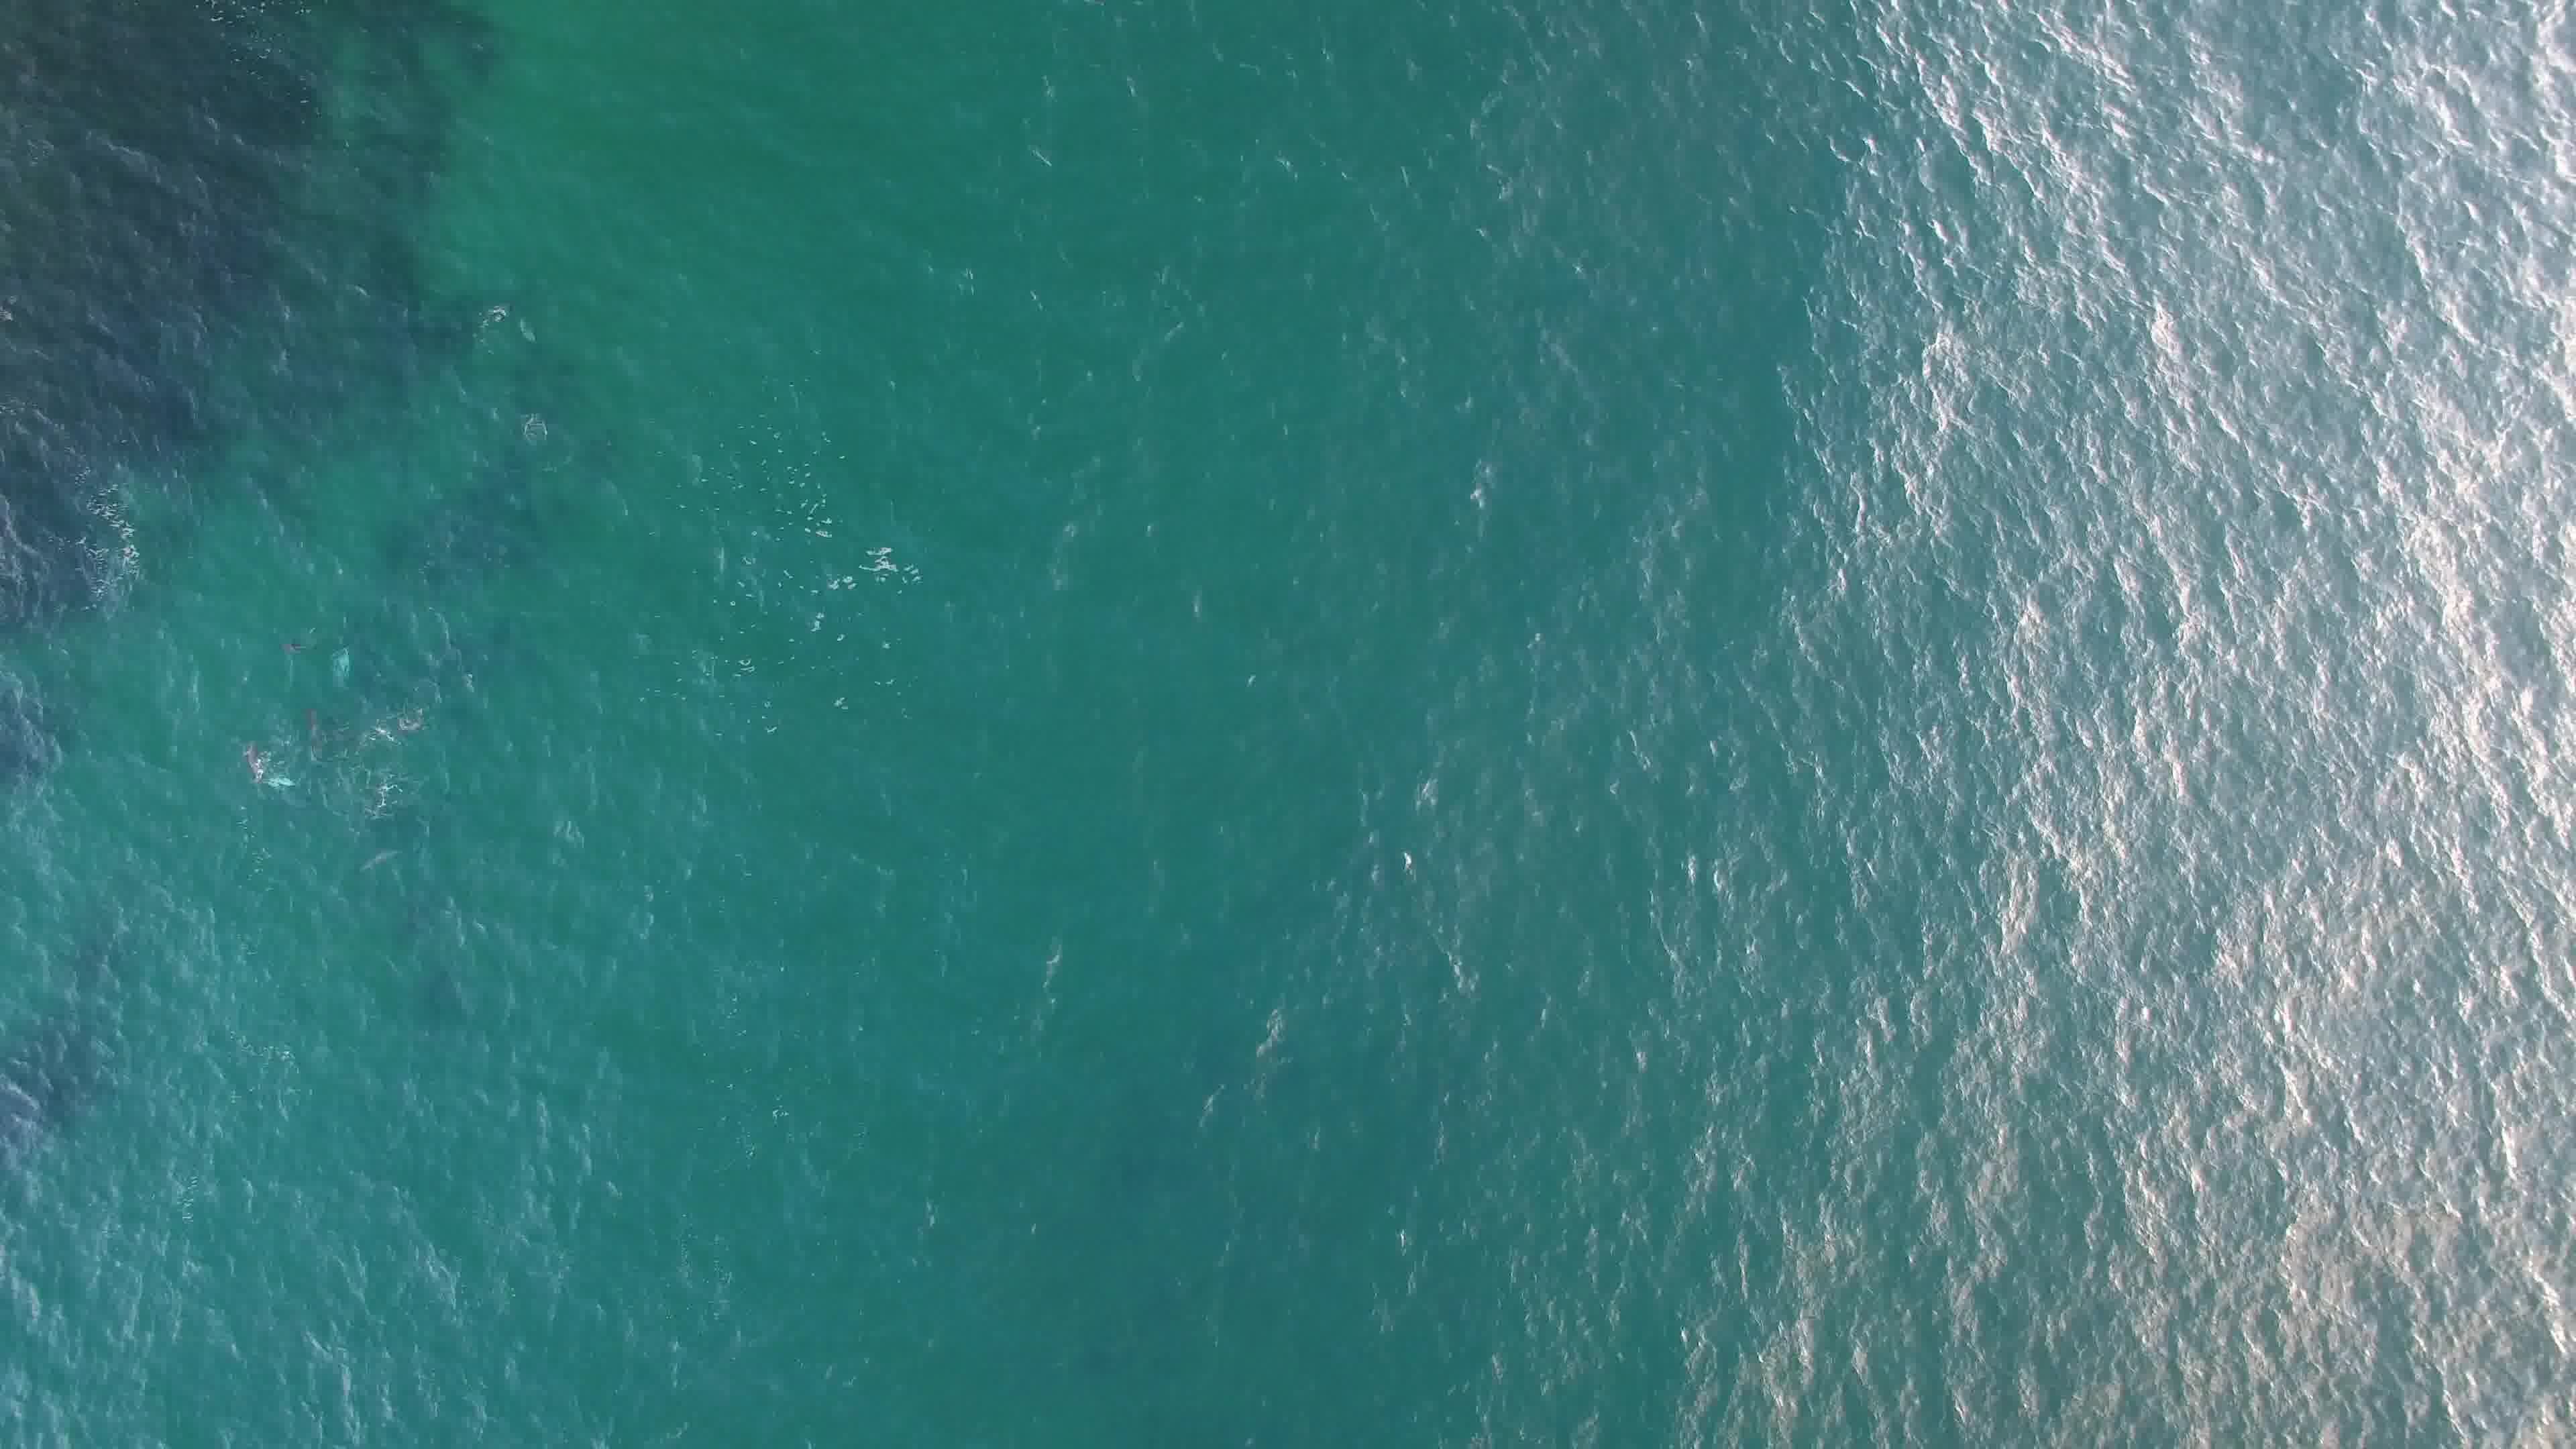dolphin: (234, 734, 287, 801), (294, 702, 334, 763)
